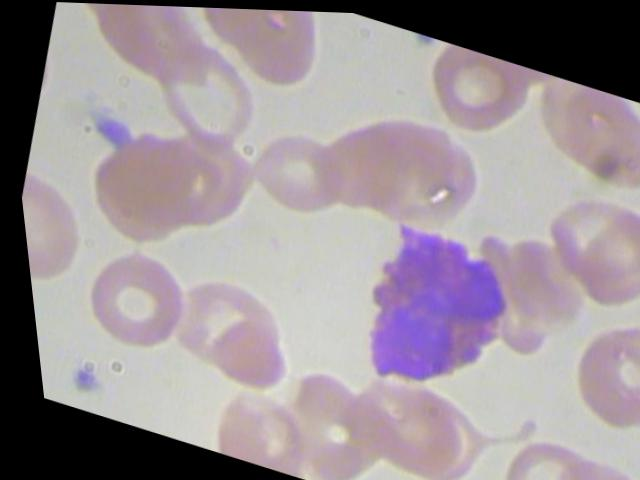Platelets: (43, 347, 102, 403), (79, 107, 140, 155)
Red Blood Cells: (134, 29, 273, 164), (59, 232, 199, 364), (333, 363, 492, 479), (510, 66, 639, 200), (408, 34, 543, 146), (183, 5, 339, 98), (545, 298, 639, 444), (236, 116, 357, 222), (545, 186, 639, 322), (196, 376, 310, 476), (15, 170, 100, 297), (190, 301, 293, 393), (472, 417, 605, 479)
White Blood Cells: (316, 201, 537, 429)
